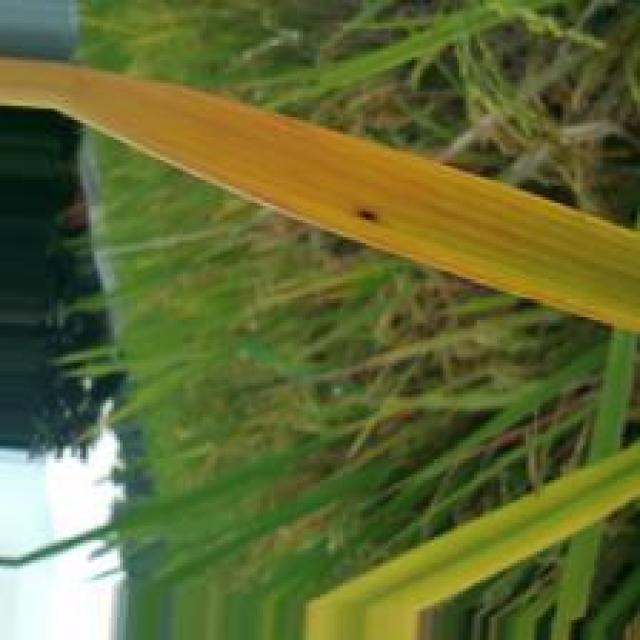Brown_Spot: (354, 205, 377, 229)
